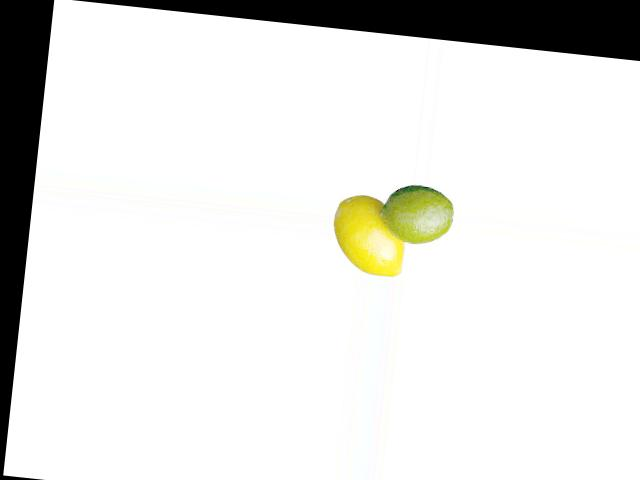lemon: (366, 176, 458, 259)
